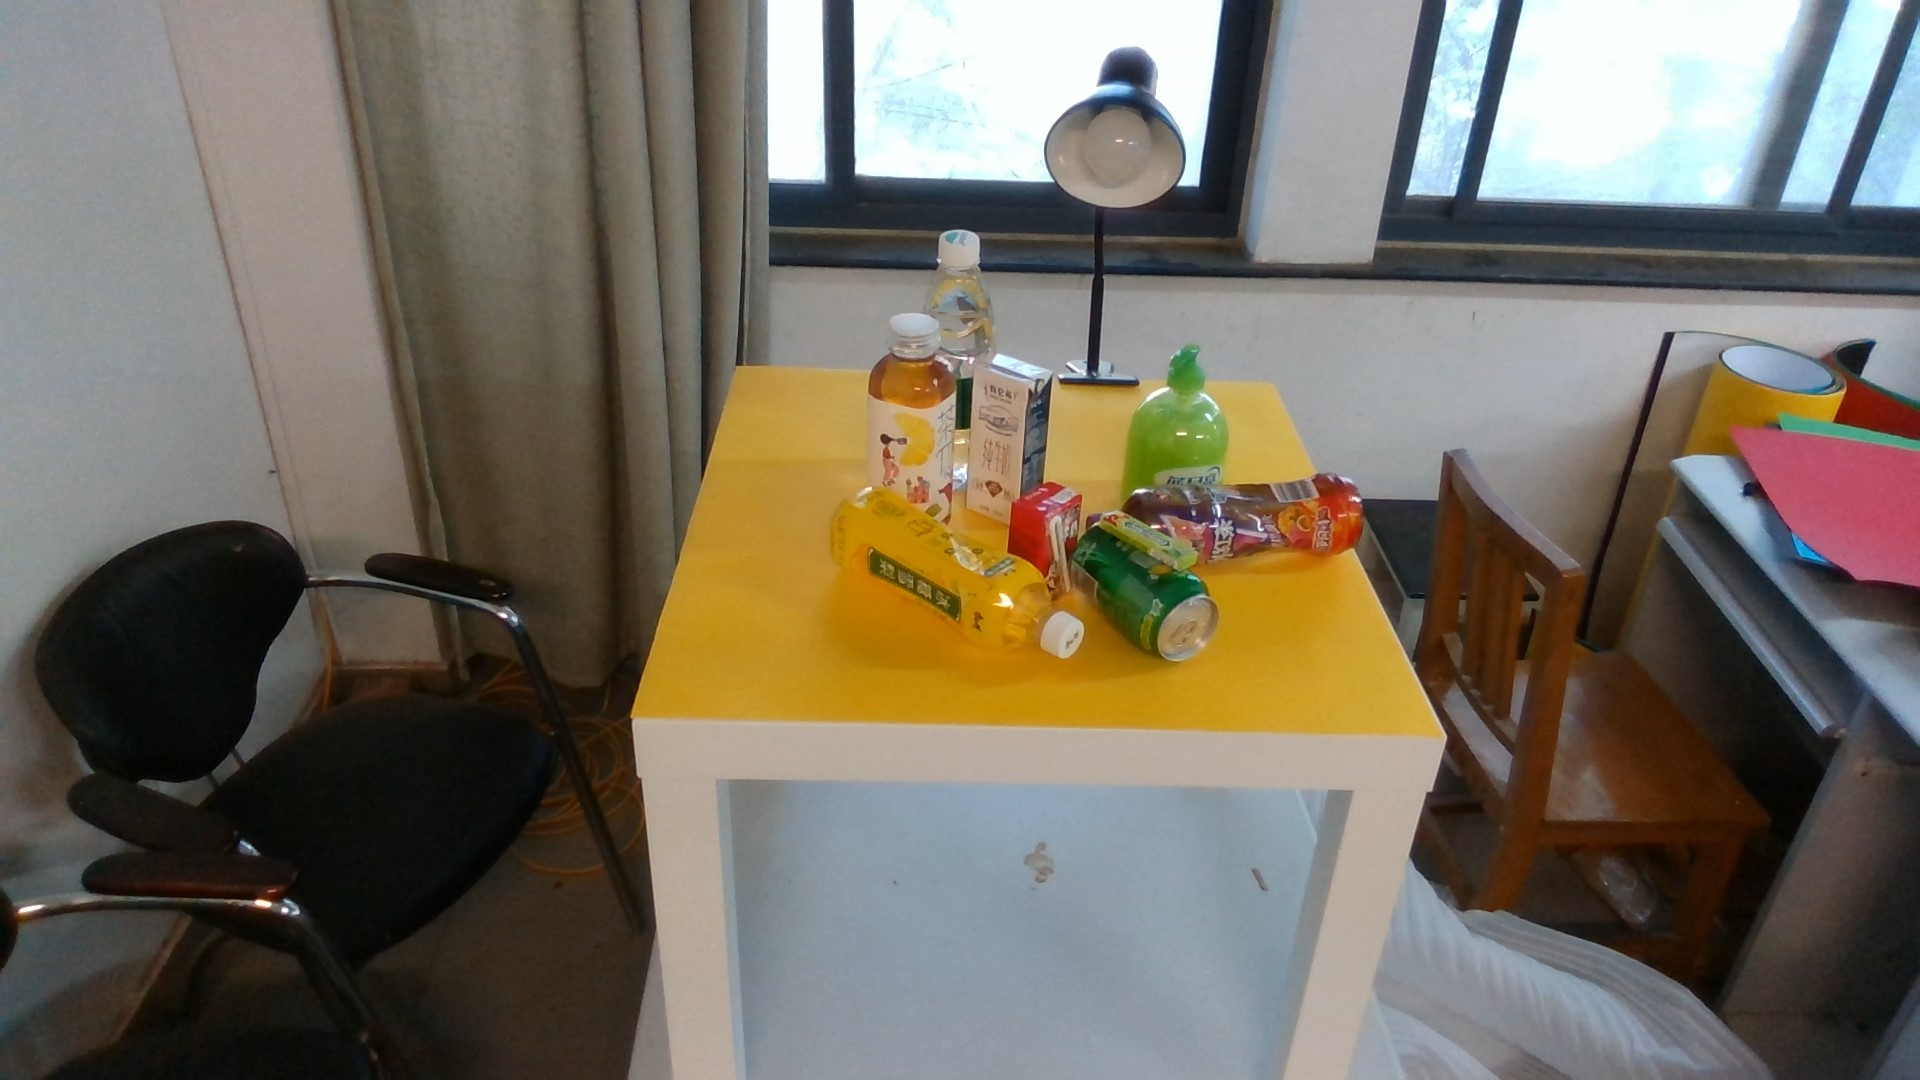BB002: (1100, 505, 1205, 575)
BB010: (969, 349, 1052, 485)
BB012: (1005, 487, 1080, 555)
ZA002: (1126, 345, 1225, 481)
ZC001: (1083, 578, 1220, 663)
ZC009: (1207, 481, 1364, 556)
ZC011: (833, 556, 1083, 655)
ZC012: (865, 309, 955, 487)
ZC017: (947, 225, 997, 355)
